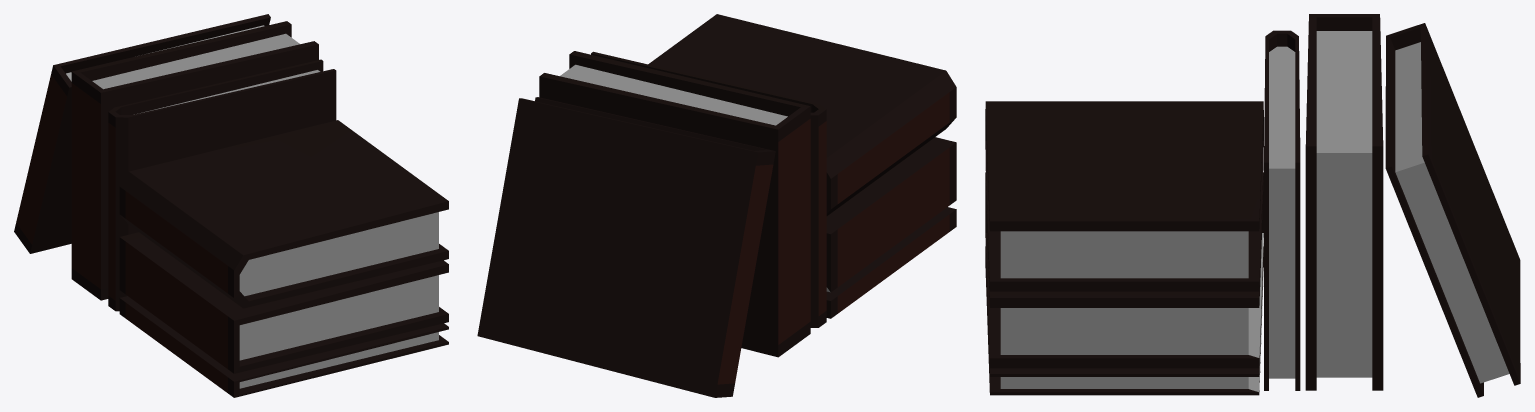
File: Messy Book.FBX
3 renders of one model, left to right at view 1: azimuth 30°, elevation 25°; view 2: azimuth 150°, elevation 25°; view 3: azimuth 270°, elevation 25°, orthographic. The views are drawn at different scales.
Parts seen in each view (by area): view 1: Box001, Box005, Box002, Box003, Box004, Box006; view 2: Box004, Box002, Box001, Box005, Box003, Box006; view 3: Box001, Box002, Box004, Box005, Box003, Box006.
Boxes of the visible parts, x1,y1,x2,y2 form: Box001: [119, 120, 448, 308]; Box005: [119, 232, 448, 373]; Box002: [71, 21, 318, 300]; Box003: [108, 59, 336, 311]; Box004: [14, 14, 270, 253]; Box006: [119, 296, 448, 397]; Box004: [477, 97, 775, 397]; Box002: [539, 51, 810, 357]; Box001: [648, 14, 956, 215]; Box005: [826, 137, 956, 292]; Box003: [591, 51, 826, 327]; Box006: [826, 207, 956, 318]; Box001: [985, 101, 1263, 291]; Box002: [1305, 14, 1383, 390]; Box004: [1385, 23, 1520, 397]; Box005: [985, 172, 1263, 368]; Box003: [1264, 30, 1300, 390]; Box006: [985, 246, 1263, 395].
Bounding box in the file's own units: 48.9 × 45.95 × 86.11.
